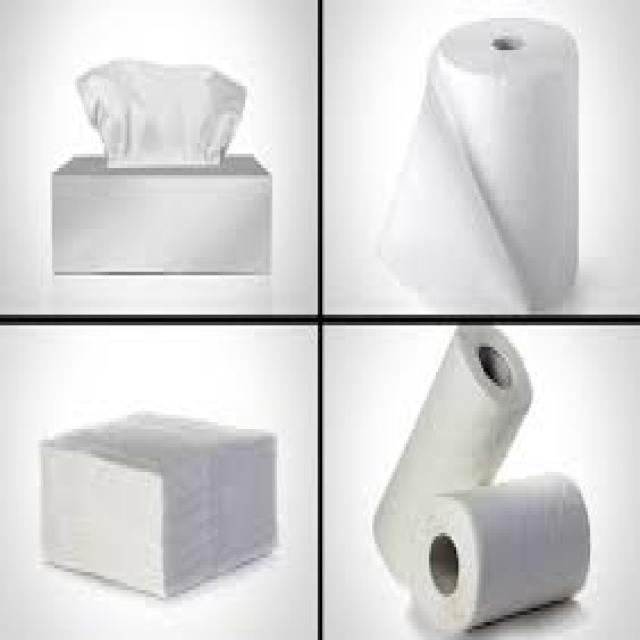cardboard: (37, 409, 279, 598), (50, 152, 272, 276)
cups: (74, 57, 247, 169)
paper: (377, 16, 580, 312)
